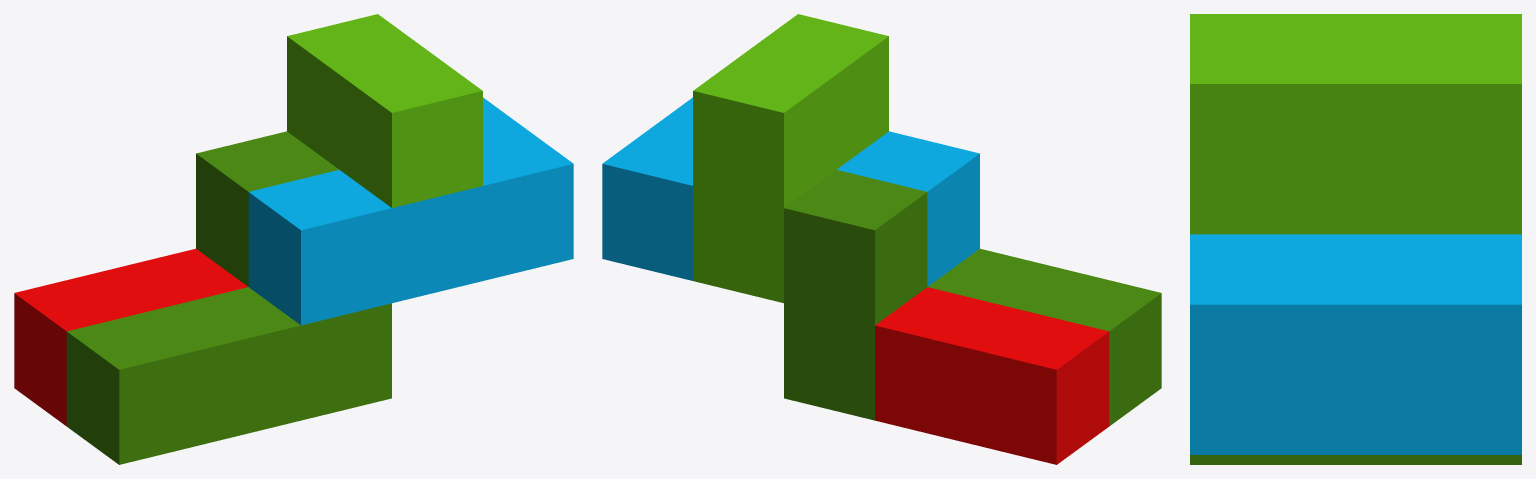
3 views of the same model, side by side, from view 1: azimuth 30°, elevation 25°; view 2: azimuth 150°, elevation 25°; view 3: azimuth 270°, elevation 25° (orthographic). The views are drawn at different scales.
Visible parts, largest first — view 1: mergedBlocks(Clone); view 2: mergedBlocks(Clone); view 3: mergedBlocks(Clone).
Boxes of the visible parts, left/top/right/bottom form: mergedBlocks(Clone): left=14, top=14, right=573, bottom=464; mergedBlocks(Clone): left=602, top=14, right=1161, bottom=464; mergedBlocks(Clone): left=1190, top=14, right=1521, bottom=464.
Size of the model in its own units: 5 by 3 by 2.
4 materials, 4 textured.
